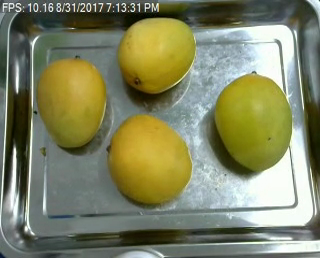Mango: (104, 112, 193, 204), (212, 71, 293, 171), (107, 16, 199, 101), (34, 53, 107, 154)
